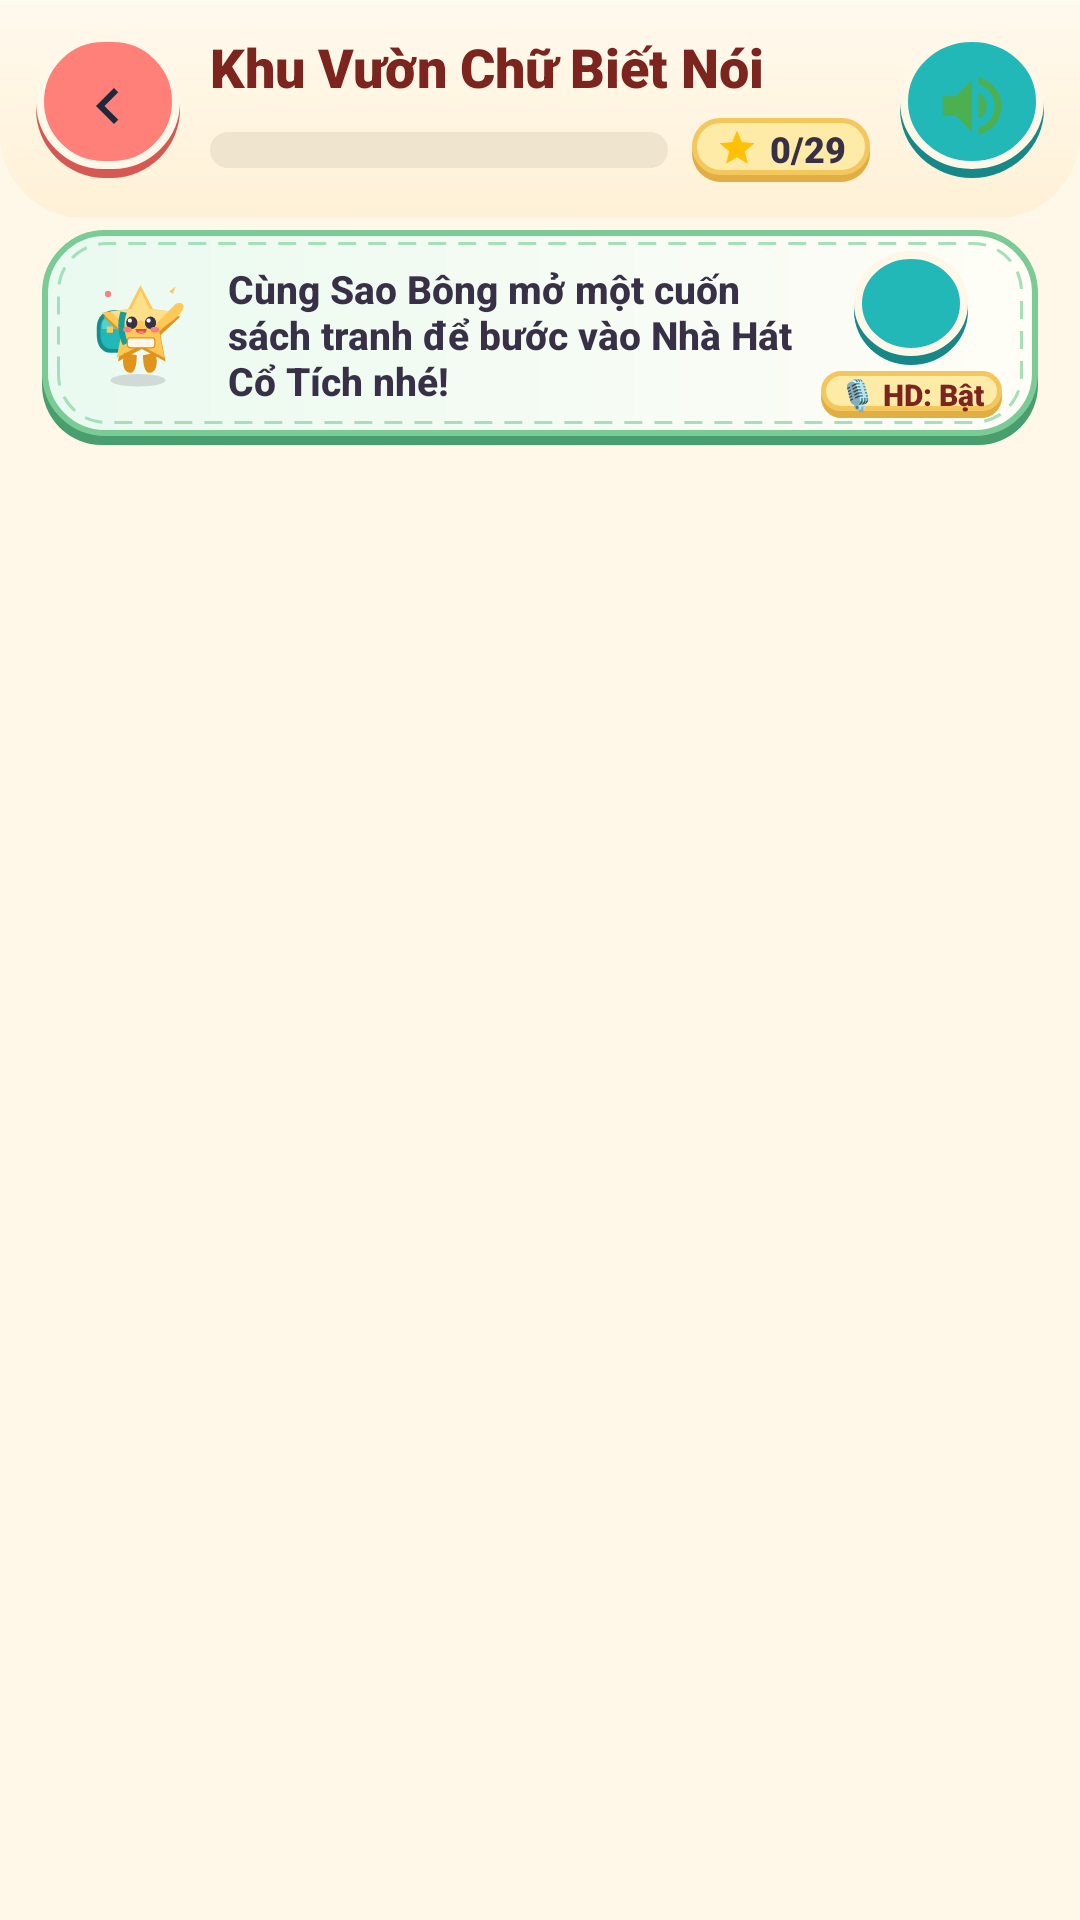

Icon bounding boxes for this 1080 × 1920 phone screenshot, format [x1,y1,x2,y2]:
Bật hoặc tắt âm thanh ứng dụng: [900,42,1044,178]
Linh vật Sao Bông đeo ba lô khám phá: [96,285,184,386]
Quay lại: [36,42,180,178]
star: [720,131,754,164]
